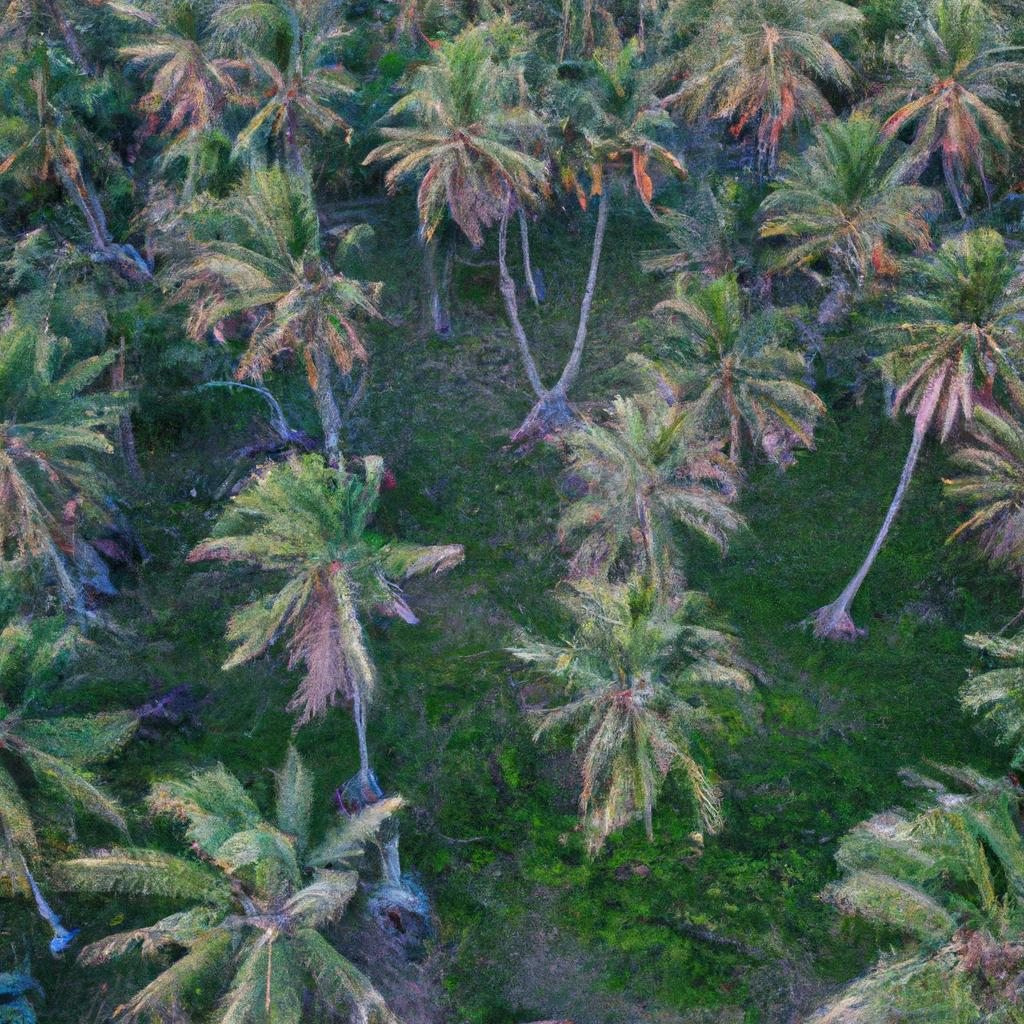coconut_tree: (70, 747, 430, 1023), (186, 439, 472, 724), (513, 566, 788, 856), (161, 183, 388, 404), (626, 266, 853, 466), (377, 37, 592, 232), (537, 393, 750, 574)
